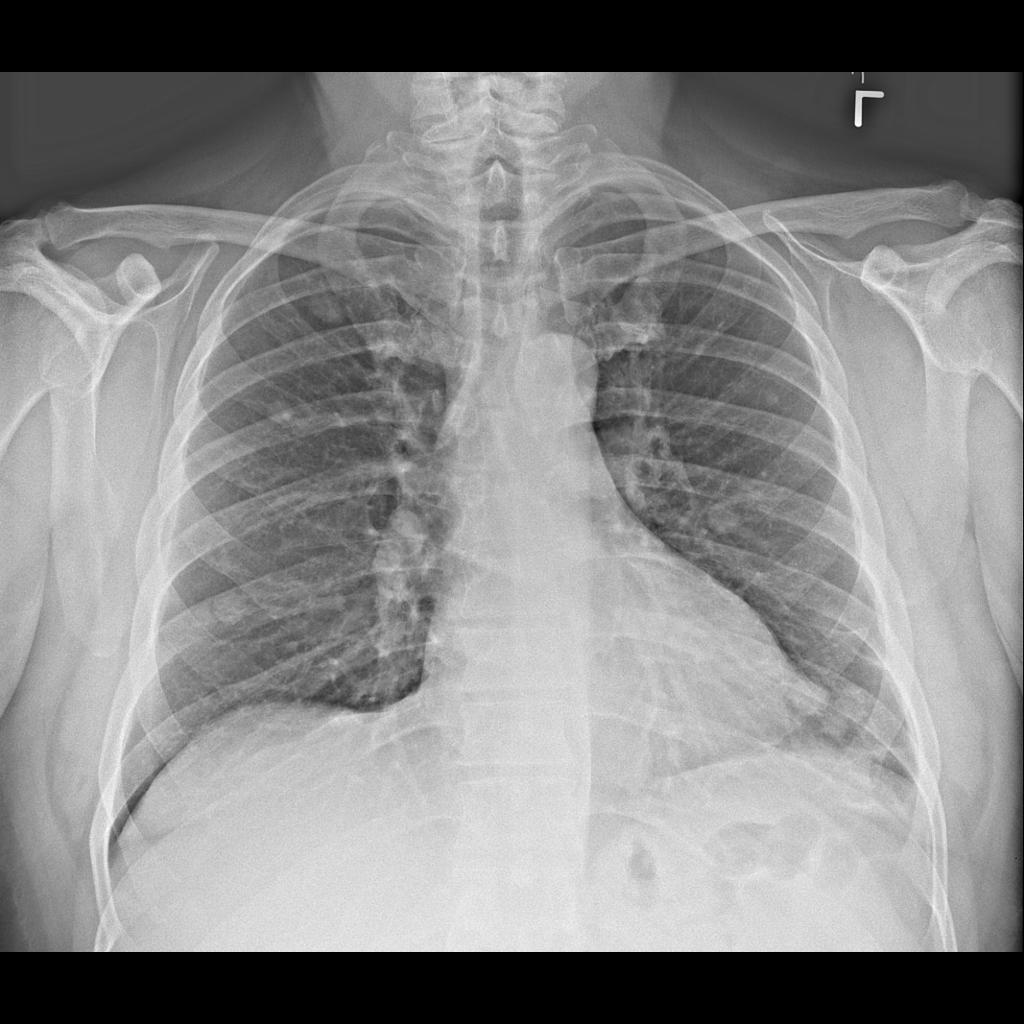Nodule: (785, 670, 839, 728), (703, 494, 752, 553), (208, 587, 259, 636)
